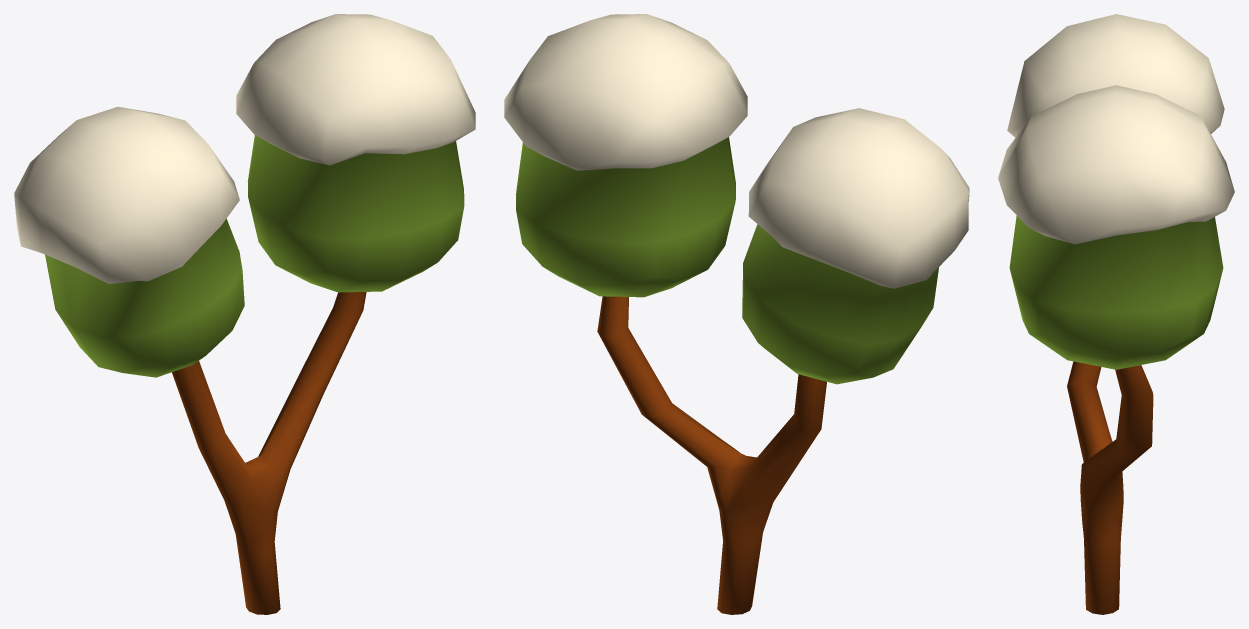
The model's file is Tree_27_Winter.fbx.
The picture shows the model from 3 angles, left to right: view 1: azimuth 30°, elevation 25°; view 2: azimuth 150°, elevation 25°; view 3: azimuth 270°, elevation 25°; orthographic projection.
Parts seen in each view (by area): view 1: Tree_27_p2_Winter, Tree_27_p1_Winter; view 2: Tree_27_p2_Winter, Tree_27_p1_Winter; view 3: Tree_27_p2_Winter, Tree_27_p1_Winter.
Boxes of the visible parts, x1,y1,x2,y2 form: Tree_27_p2_Winter: [14, 14, 475, 377]; Tree_27_p1_Winter: [172, 292, 366, 614]; Tree_27_p2_Winter: [504, 14, 969, 384]; Tree_27_p1_Winter: [597, 296, 826, 614]; Tree_27_p2_Winter: [998, 14, 1234, 369]; Tree_27_p1_Winter: [1067, 361, 1153, 614].
Size of the model in its own units: 445 by 564 by 215.
